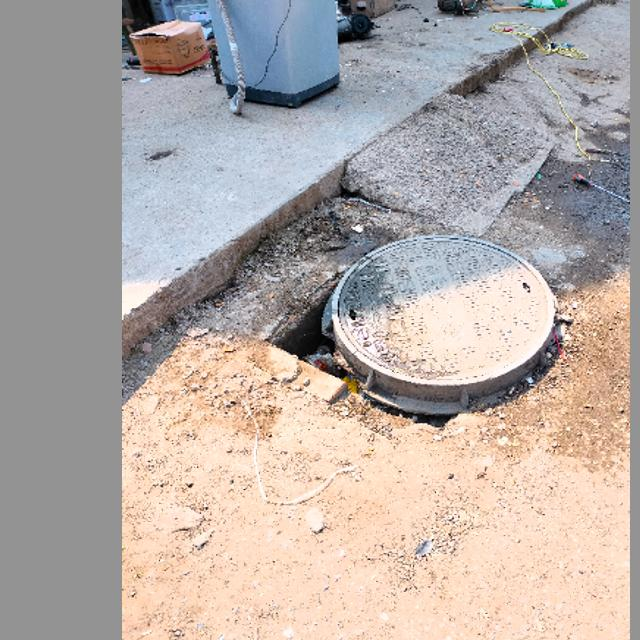circle: (288, 221, 569, 421)
